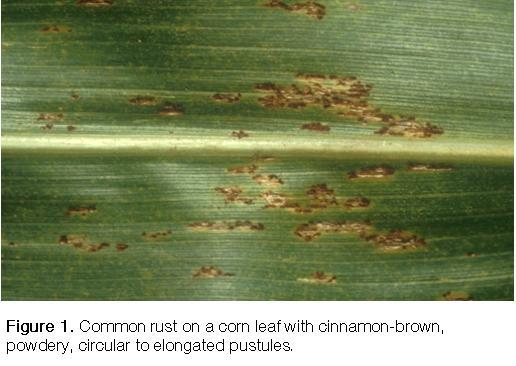Corn rust leaf: (2, 1, 514, 301)
